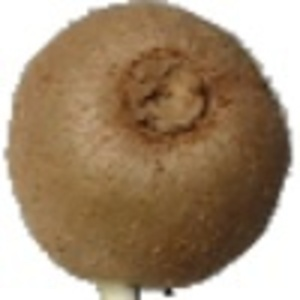kiwi: (3, 1, 292, 300)
